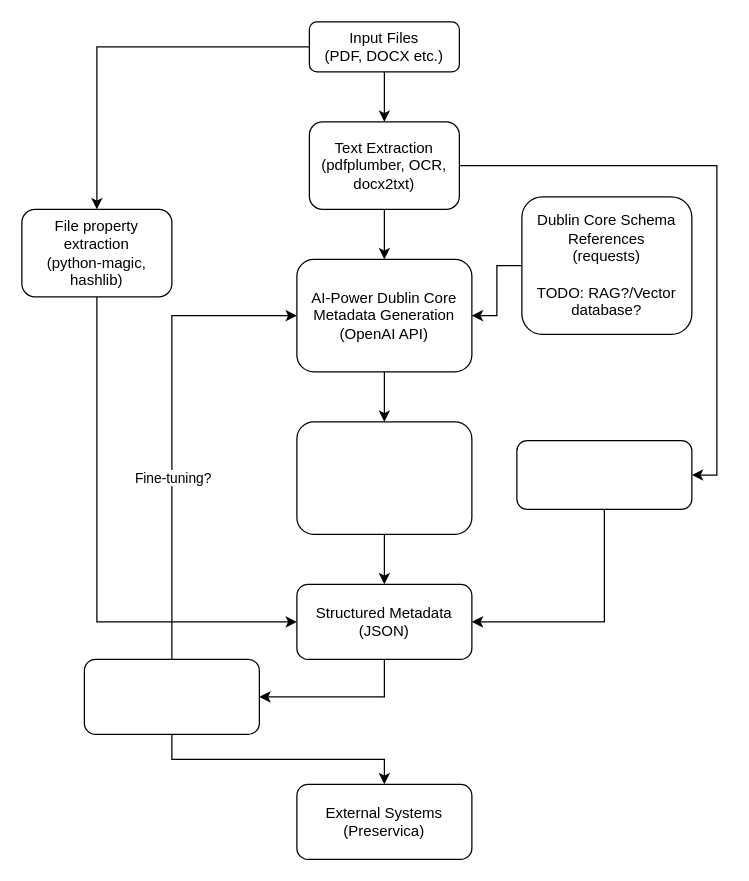
Some shapes in this 749 by 881 pixel diagram are drawn without their labels. Here are the shapes that lost their labels. From the top down, the centre of each, then its label:
[384,477]: Validation & Normalization (Date, MIME Type, Language)
[604,474]: External processing
[171,696]: Human Quality Assurance
